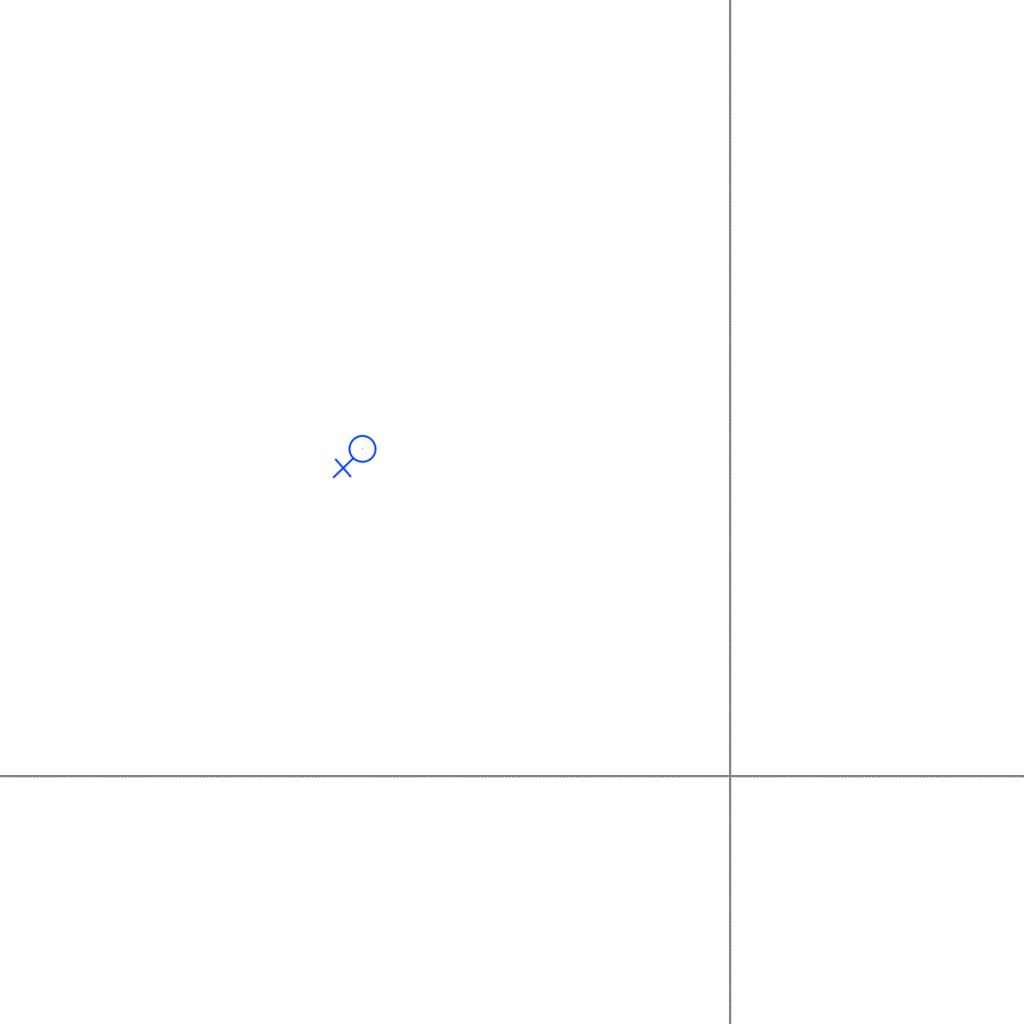Elektroanschluss_allgemein_230V_Geraeteanschlussdose_230V: (332, 434, 381, 481)
